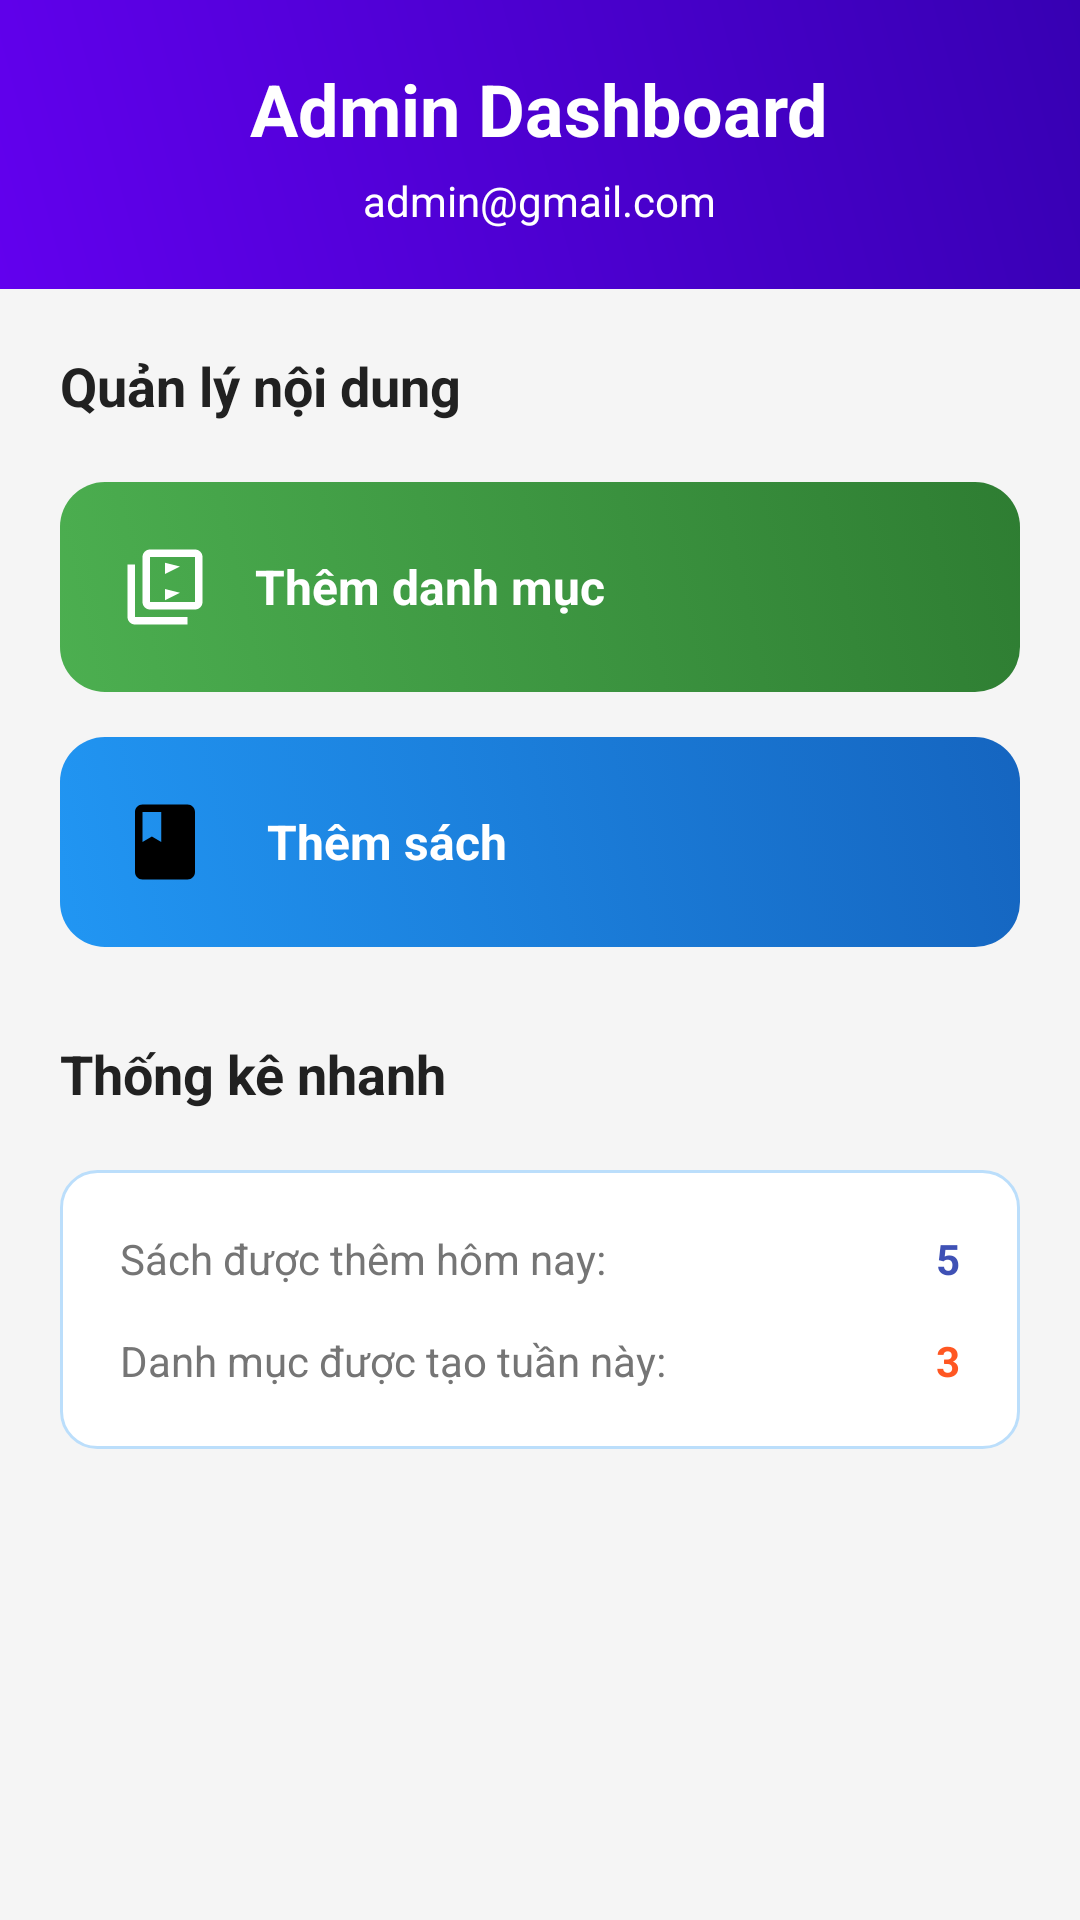

Icon click points for this 1080 × 1920 phone screenshot, format [x,y]:
book: [165,842]
